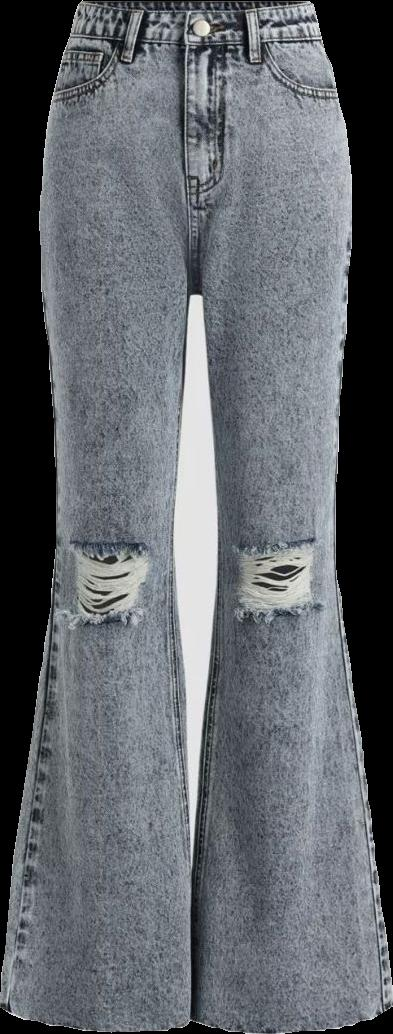Hemline: (192, 999, 392, 1033), (0, 1001, 198, 1033)
Pantleg: (179, 0, 392, 1032), (0, 0, 195, 1031)
Waistline: (66, 30, 326, 53), (75, 0, 308, 16)
